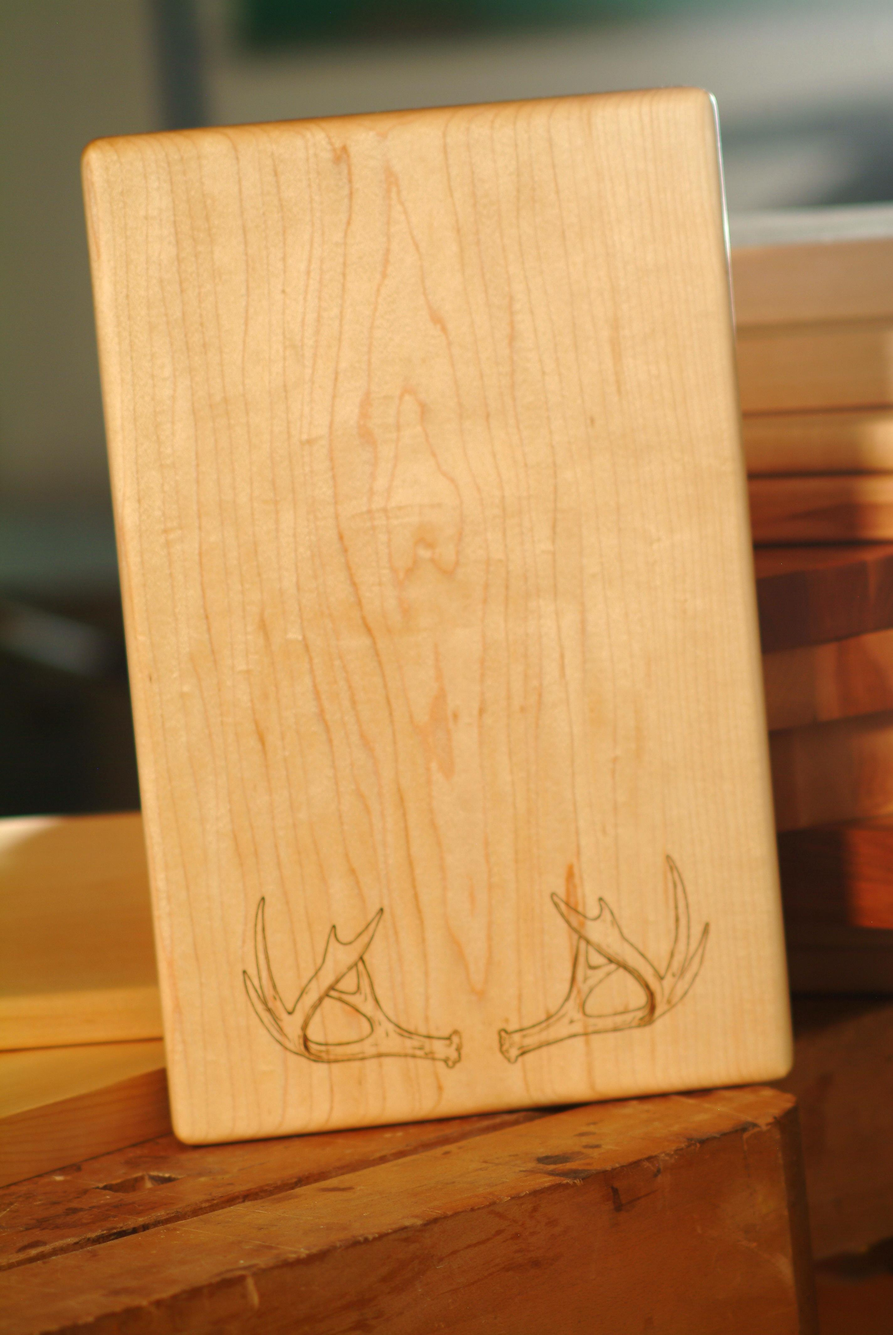gloved_hand: (63, 79, 828, 1162)
